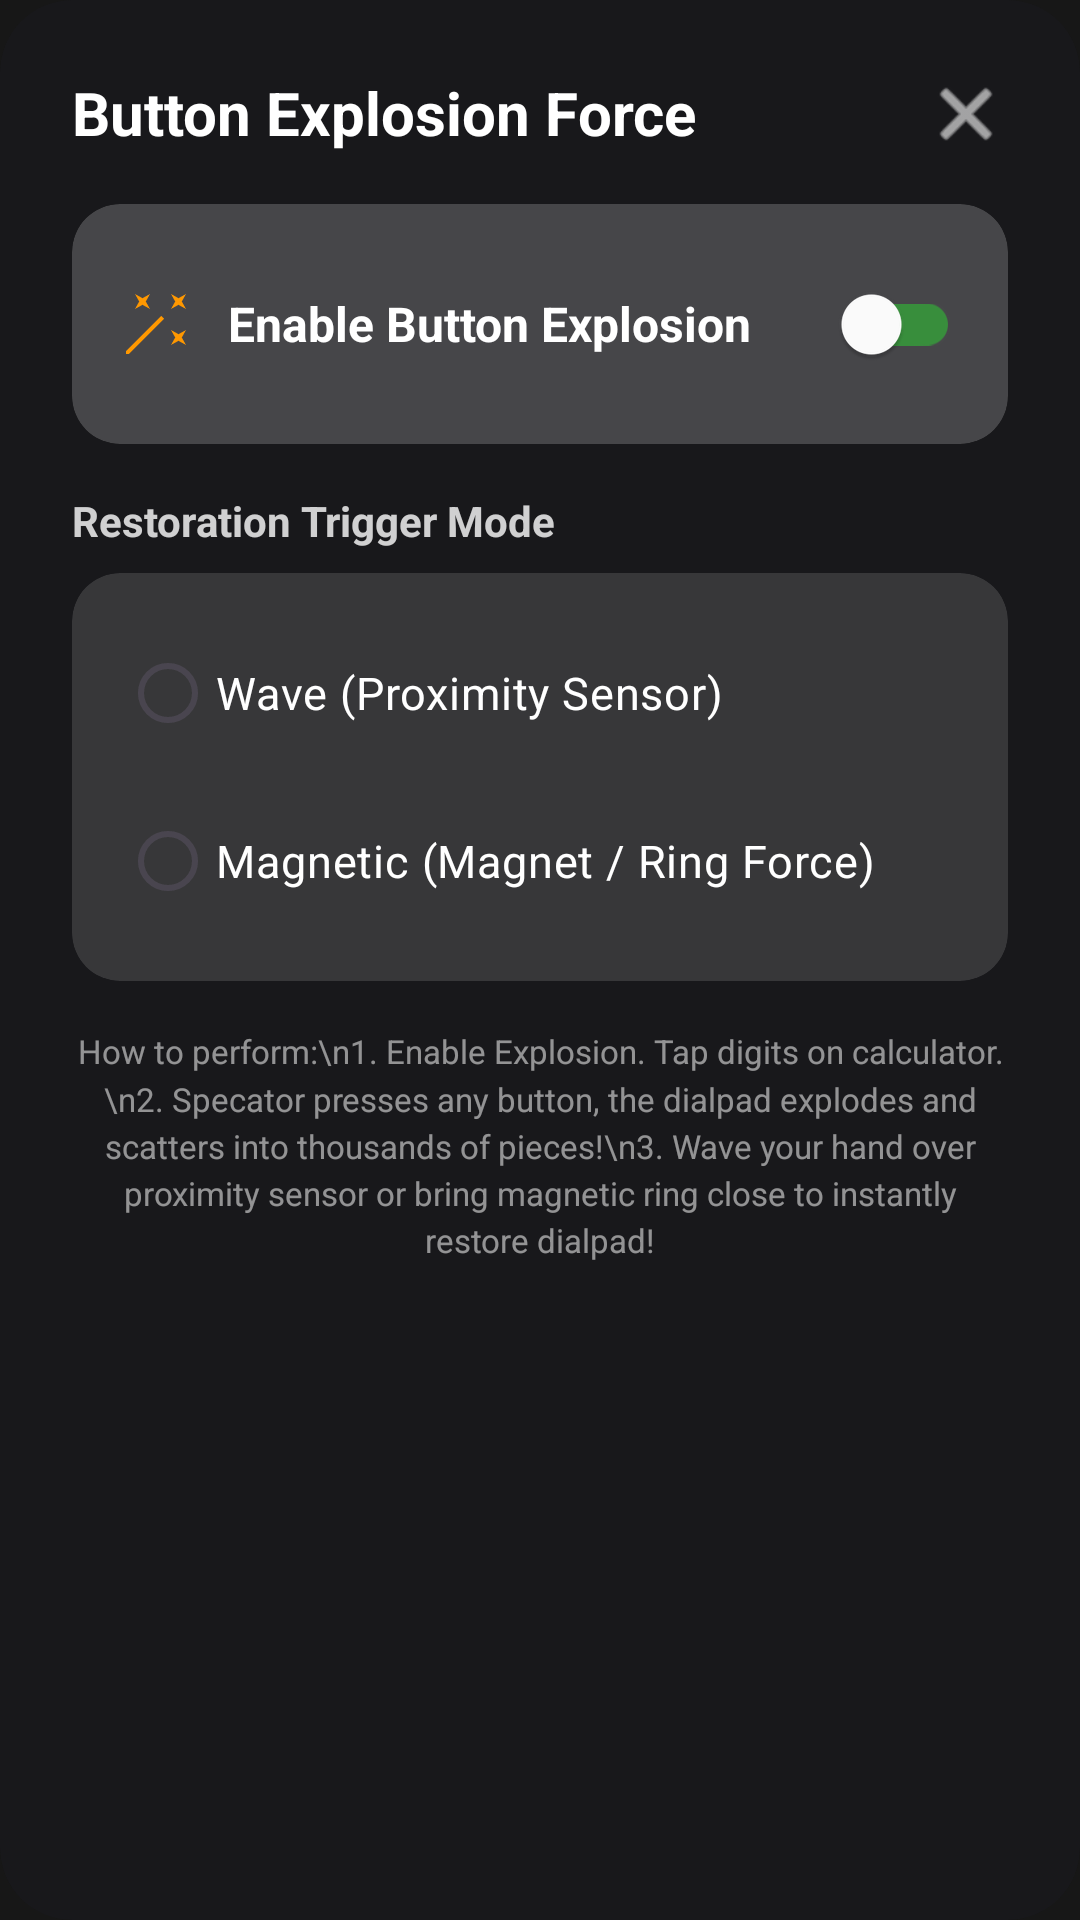

Where icons sit on this 1080px x 1920px app screen, as {"x1": x1, "y1": y1, "x2": x2, "y2": y2}:
close clear cancel: {"x1": 940, "y1": 88, "x2": 992, "y2": 140}
magic: {"x1": 126, "y1": 294, "x2": 186, "y2": 354}
